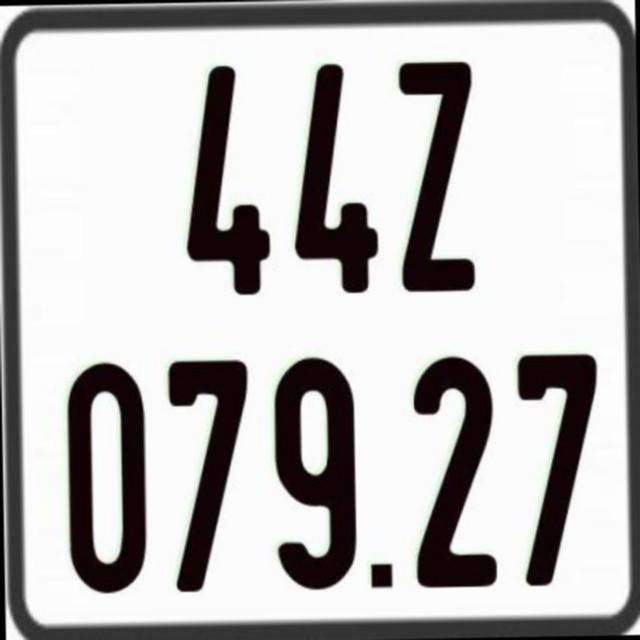0: (64, 358, 154, 591)
2: (412, 354, 500, 588)
4: (182, 62, 272, 300), (290, 62, 380, 300)
7: (165, 358, 248, 598), (515, 351, 598, 587)
9: (268, 357, 352, 592)
Z: (394, 61, 476, 296)
